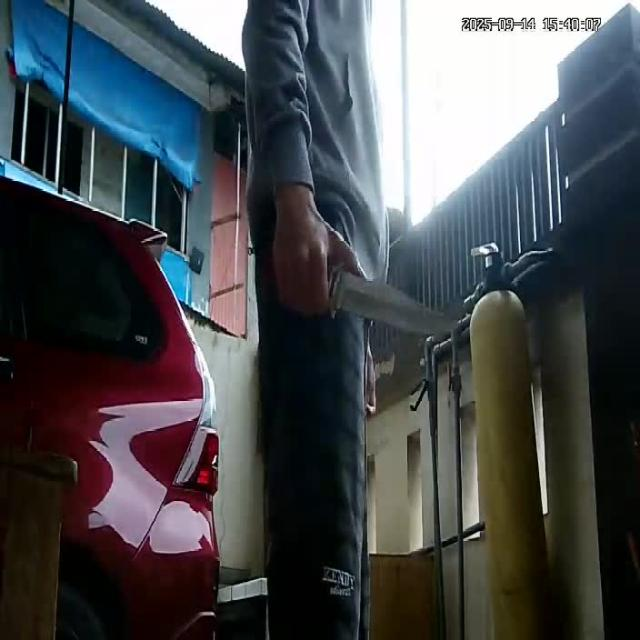senjata_tajam: (329, 264, 464, 339)
